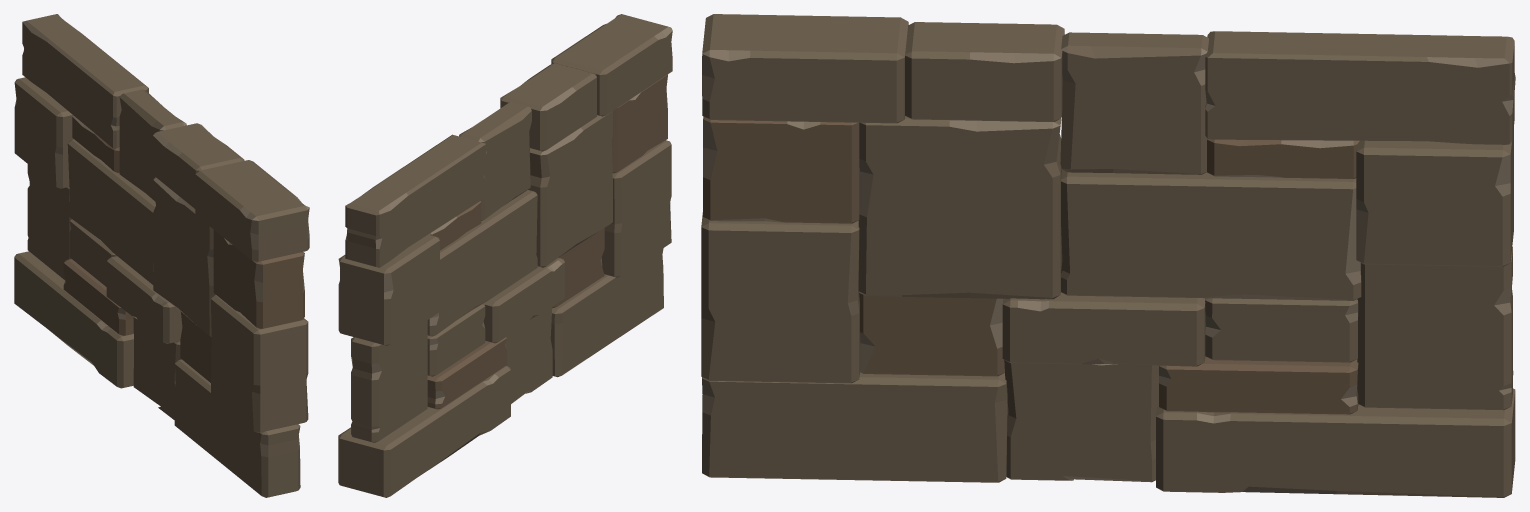
File: crypt_wall_east_0_lev3.glb
3 views of the same model, side by side, from view 1: azimuth 30°, elevation 25°; view 2: azimuth 150°, elevation 25°; view 3: azimuth 270°, elevation 25° (orthographic). The views are drawn at different scales.
Parts seen in each view (by area): view 1: crypt_wall_east_0_lev3; view 2: crypt_wall_east_0_lev3; view 3: crypt_wall_east_0_lev3.
Part boxes in pixels (<box>): crypt_wall_east_0_lev3: <box>14,14,309,497</box>; crypt_wall_east_0_lev3: <box>338,14,672,497</box>; crypt_wall_east_0_lev3: <box>701,14,1515,497</box>.
Size of the model in its own units: 1.63 by 5.91 by 10.04.
